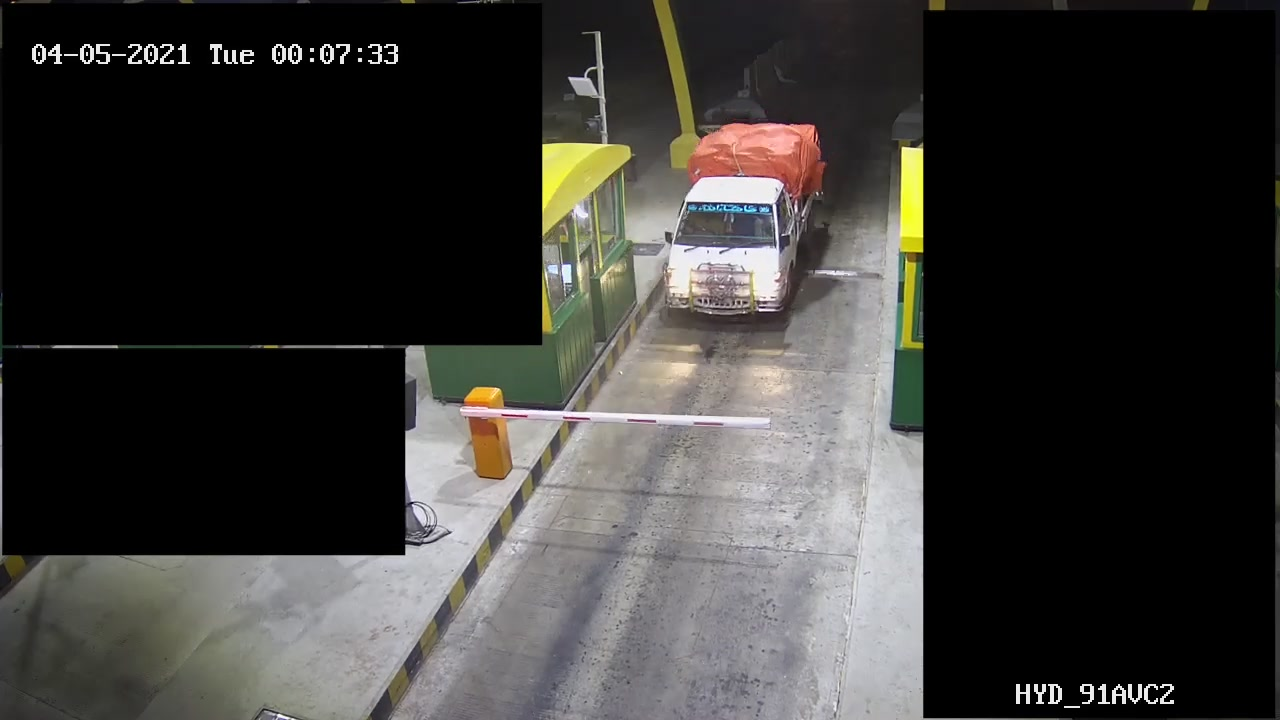F2: (654, 116, 841, 330)
